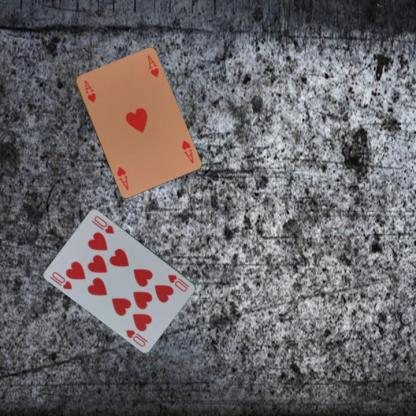10h: (165, 271, 191, 293), (50, 269, 74, 291)
Ah: (178, 138, 194, 164), (82, 78, 97, 104)
